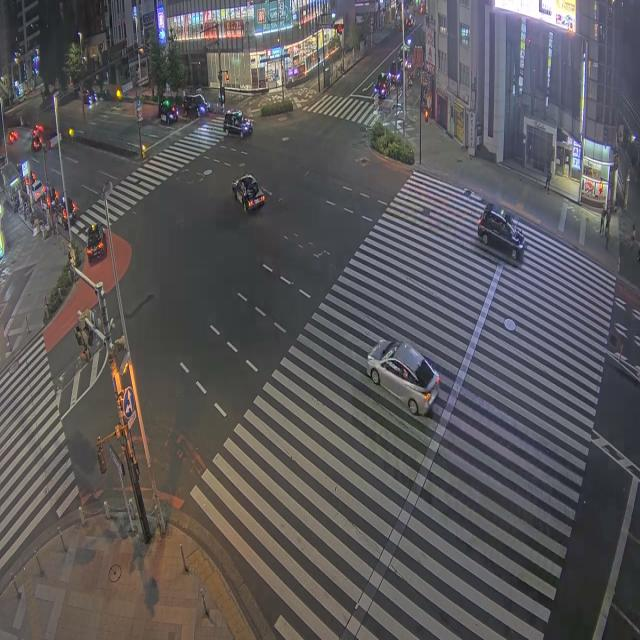car: (367, 341, 439, 415), (478, 203, 526, 260), (232, 175, 265, 211), (223, 111, 252, 137), (86, 224, 105, 261), (56, 196, 77, 228), (183, 94, 210, 116), (158, 99, 178, 123), (374, 73, 388, 99), (388, 60, 401, 84), (32, 181, 45, 201), (83, 88, 97, 105), (31, 136, 42, 151), (8, 130, 17, 143)
